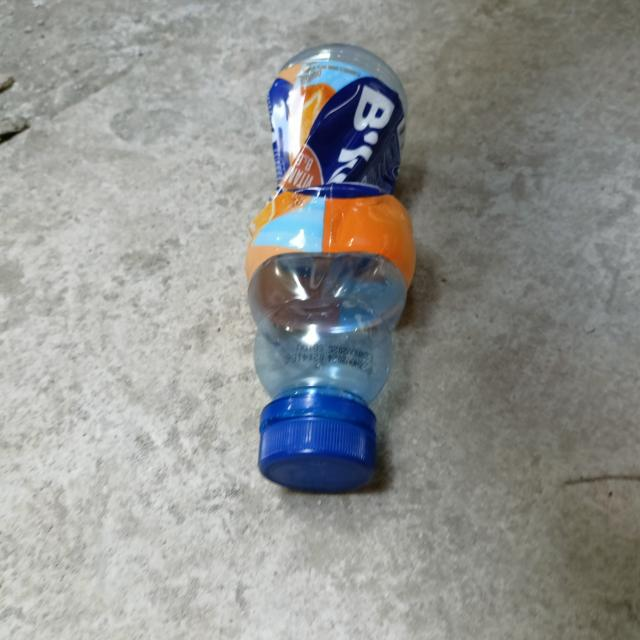Bottle: (246, 44, 415, 493)
